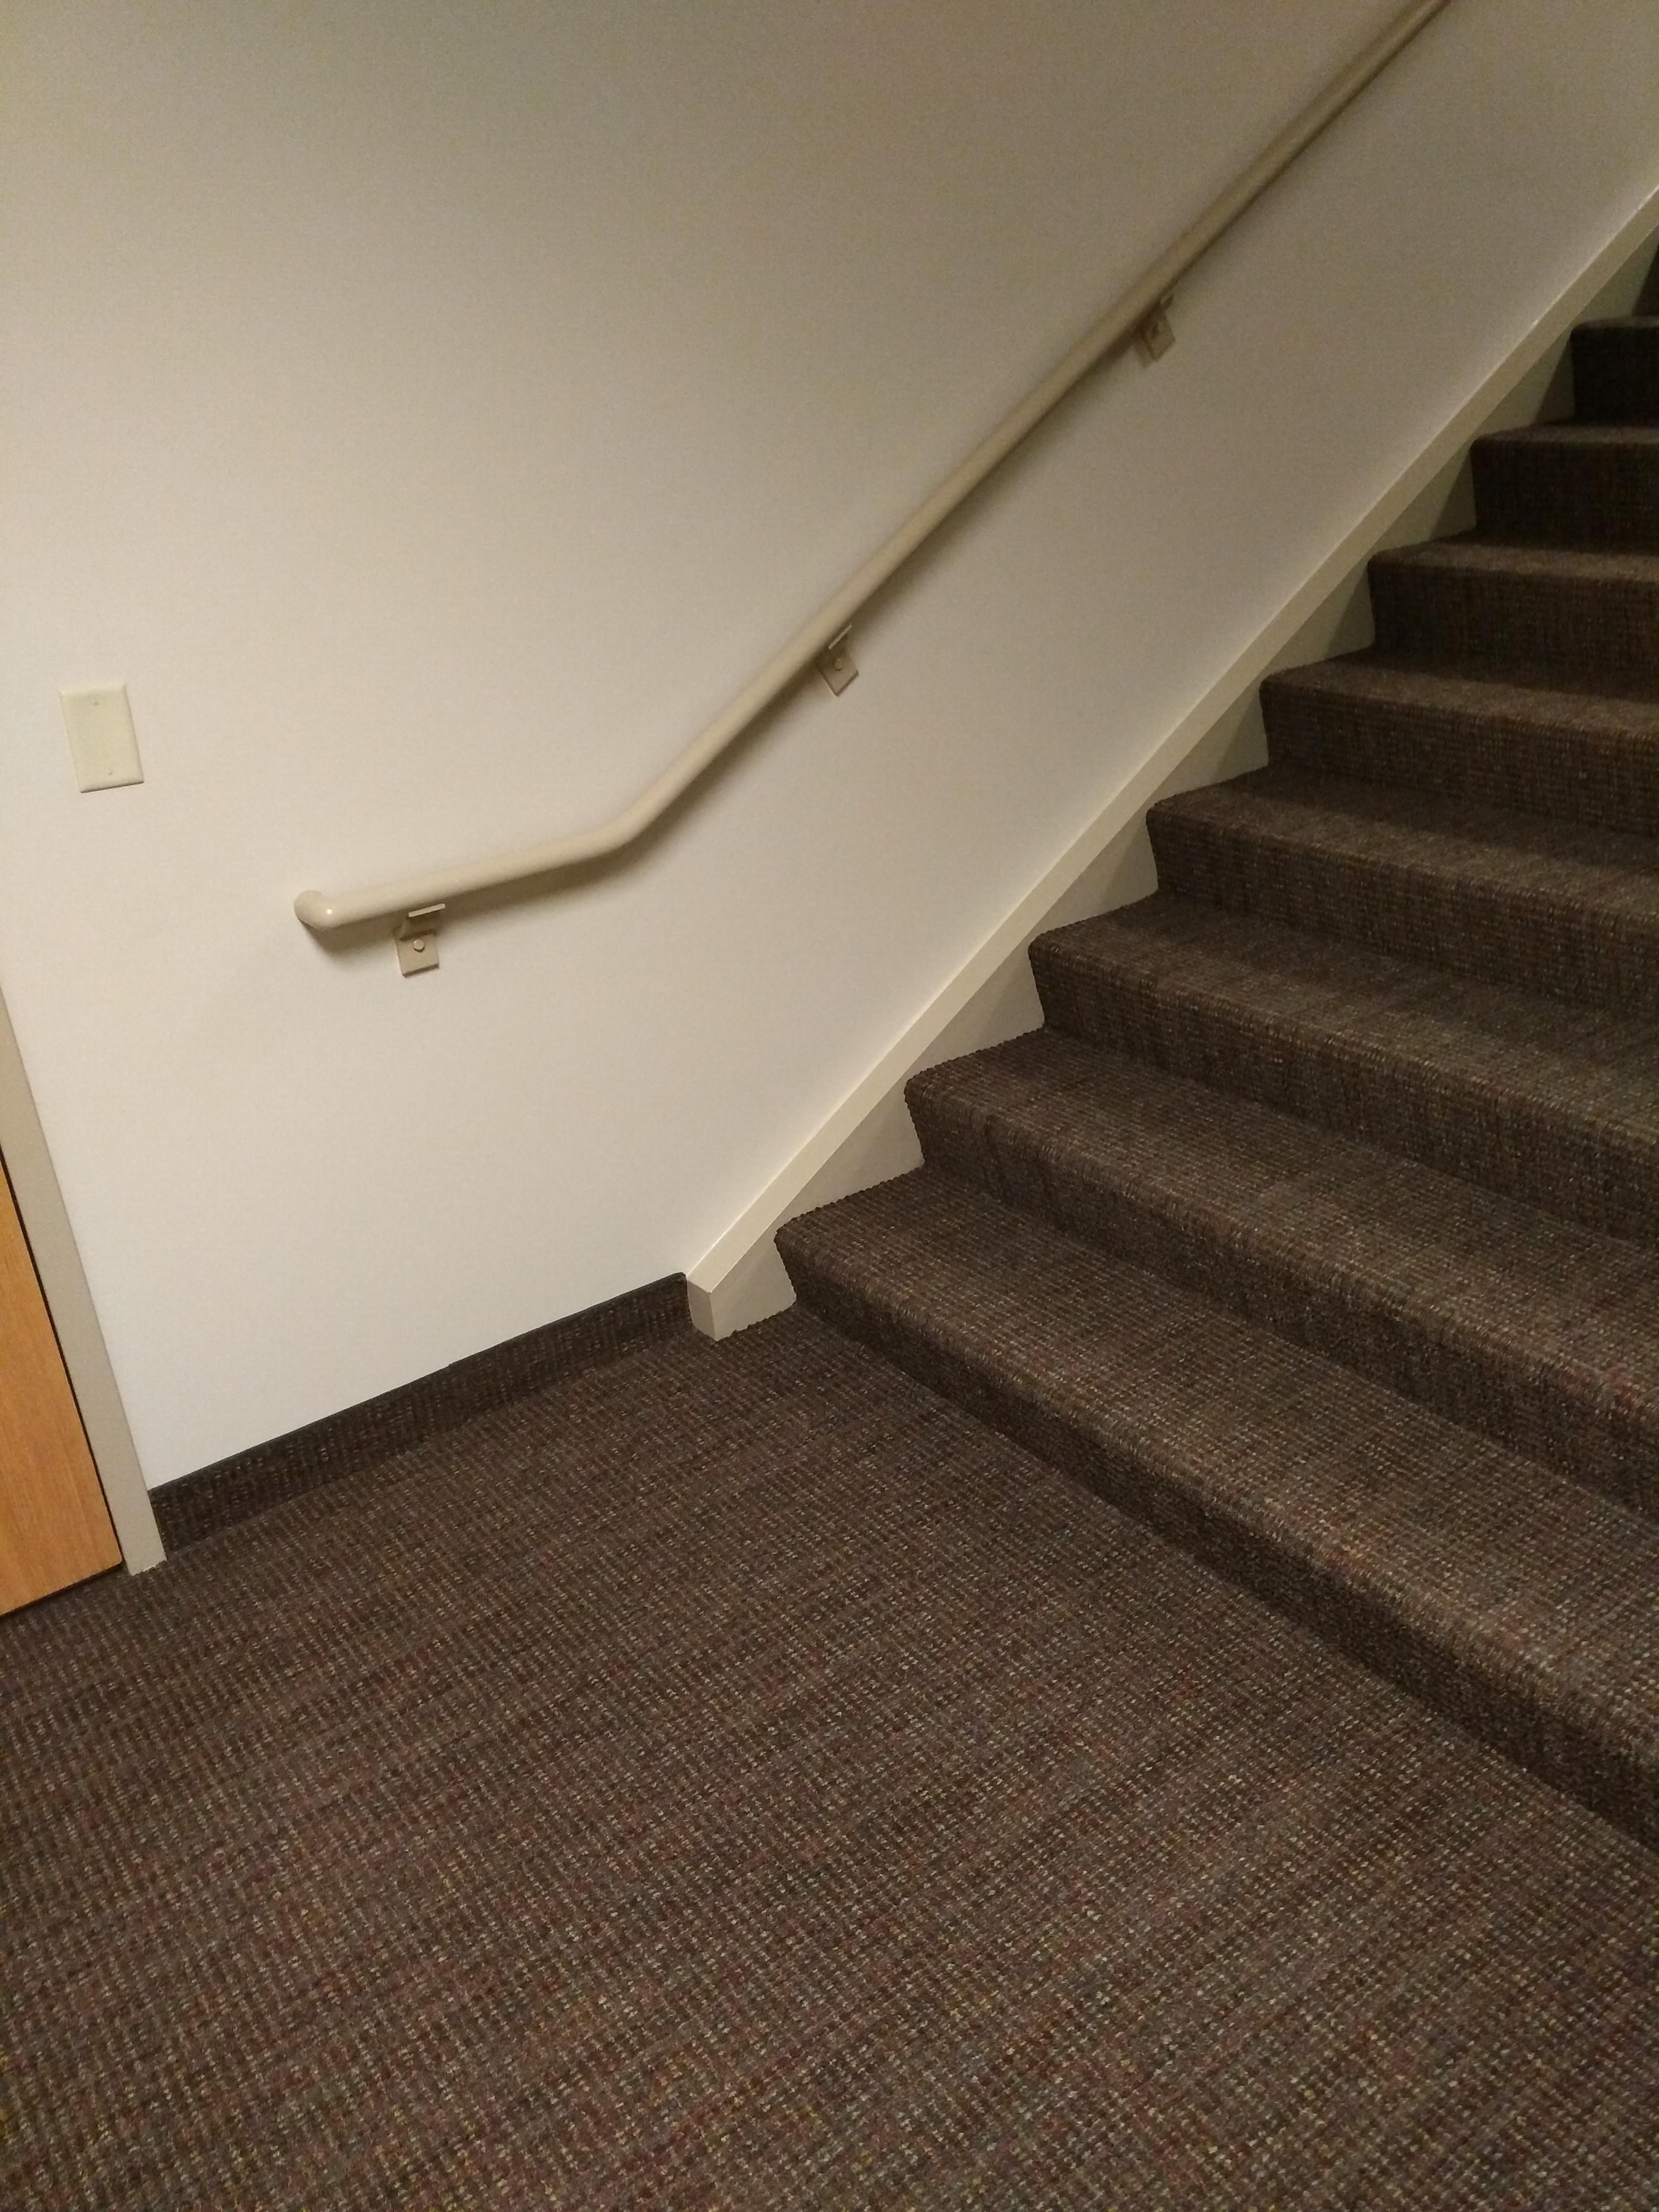stairs_up: (741, 298, 1640, 1918)
